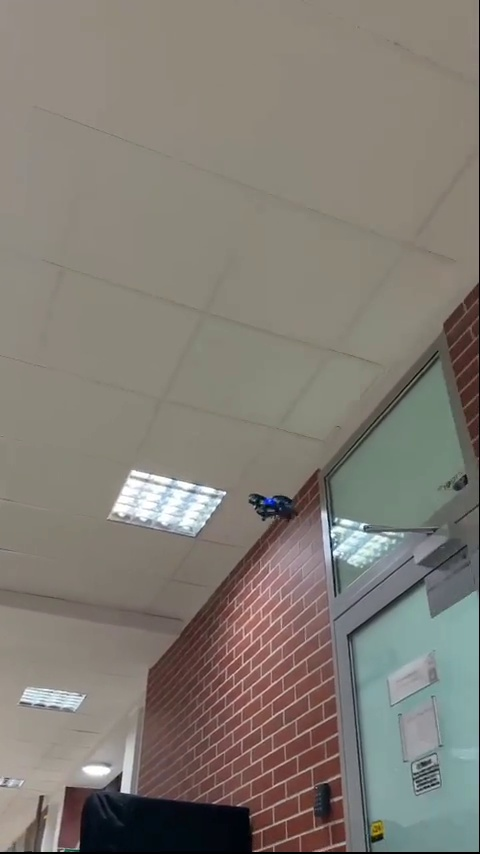drone: (248, 494, 297, 523)
